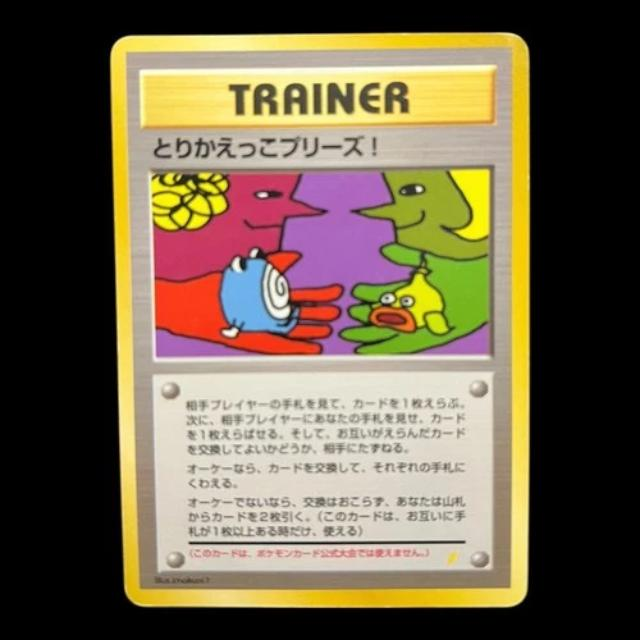Card: (102, 26, 538, 613)
Name: (138, 128, 385, 168)
